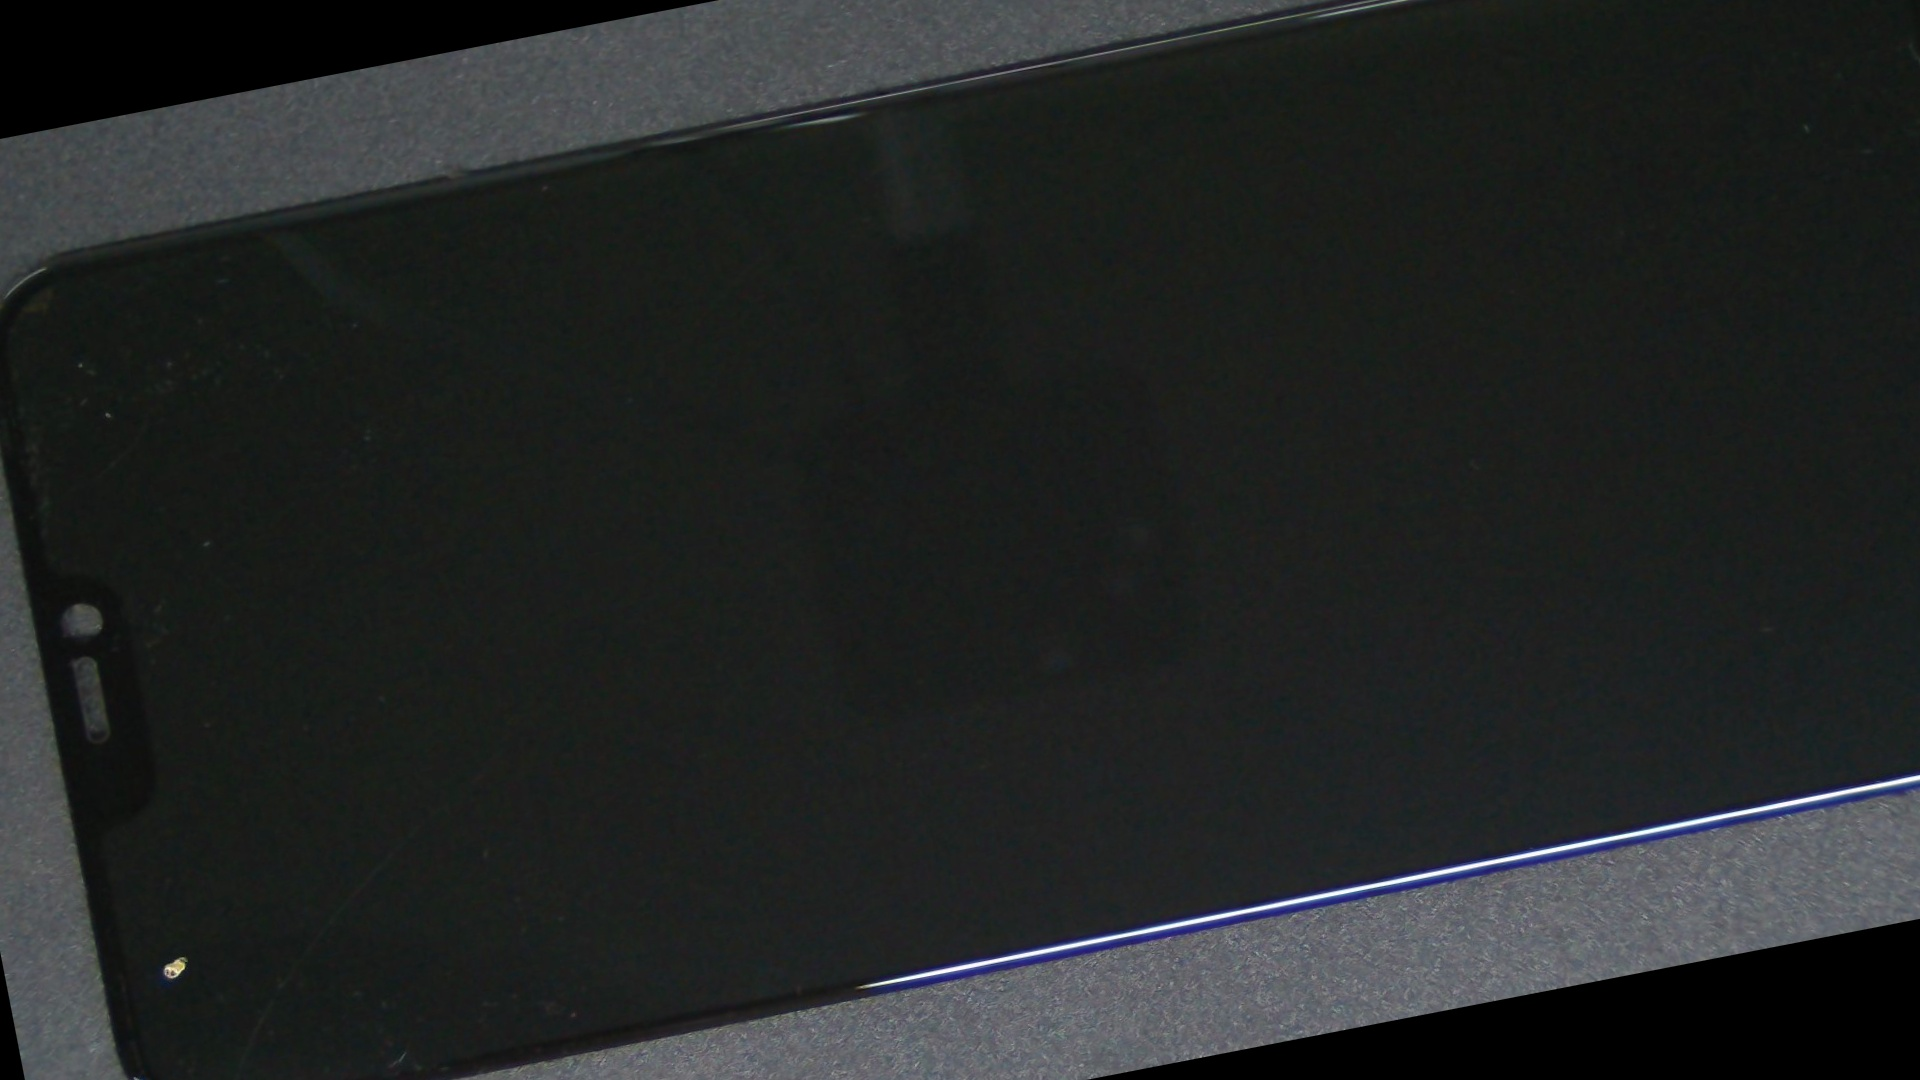oil: (13, 527, 311, 1080)
